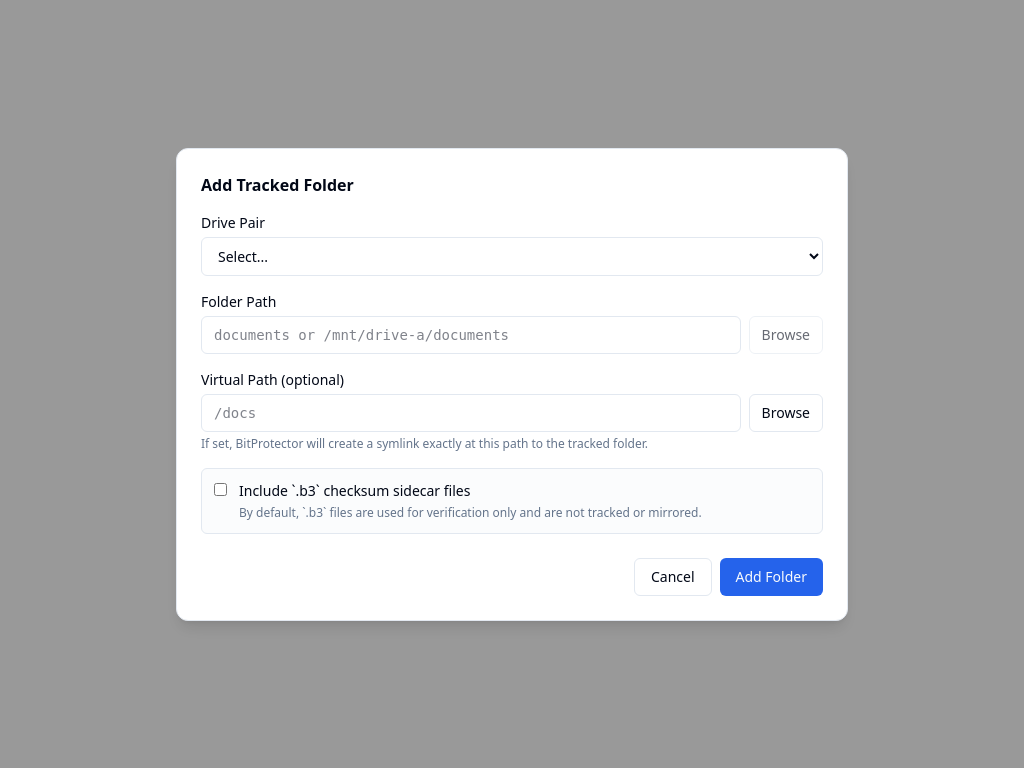
Test case: FolderFormModal › shows drive pair required error when submitted without selecting a drive
Click the button "Add Folder" at (771, 576), box [720,558,823,596]
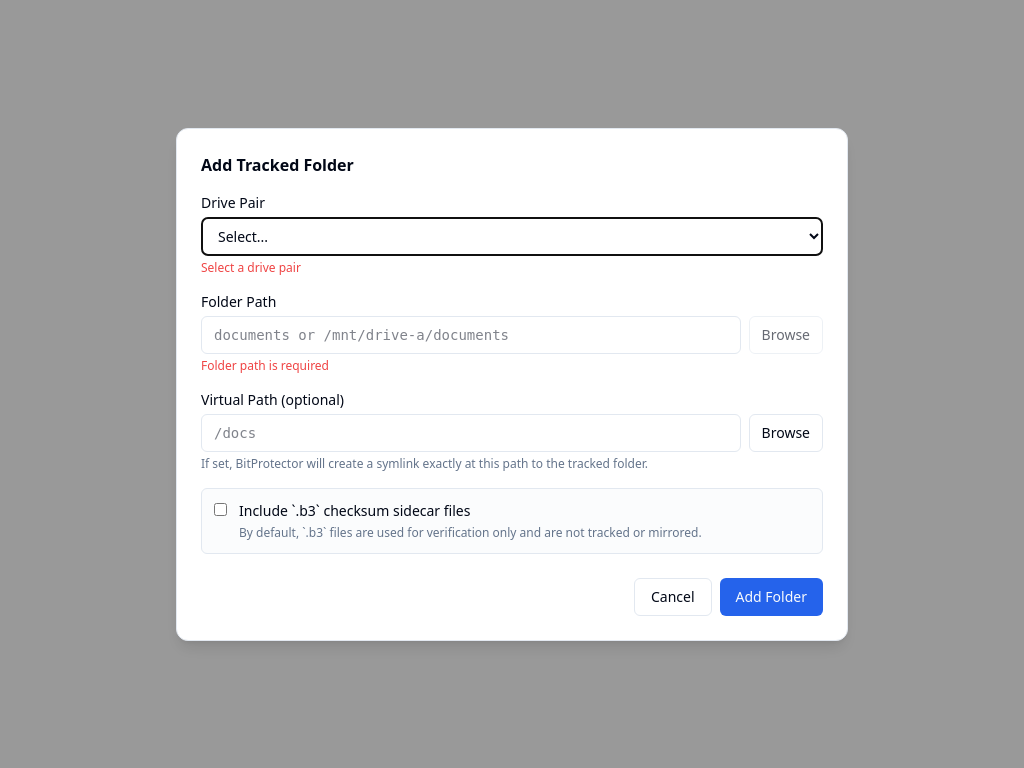
Result: the text "Select a drive pair" is shown at [201,258,301,276]
